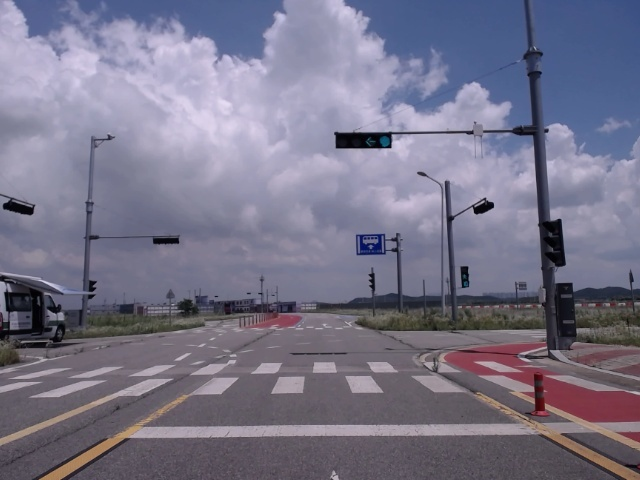all_green_4: (334, 133, 391, 146)
